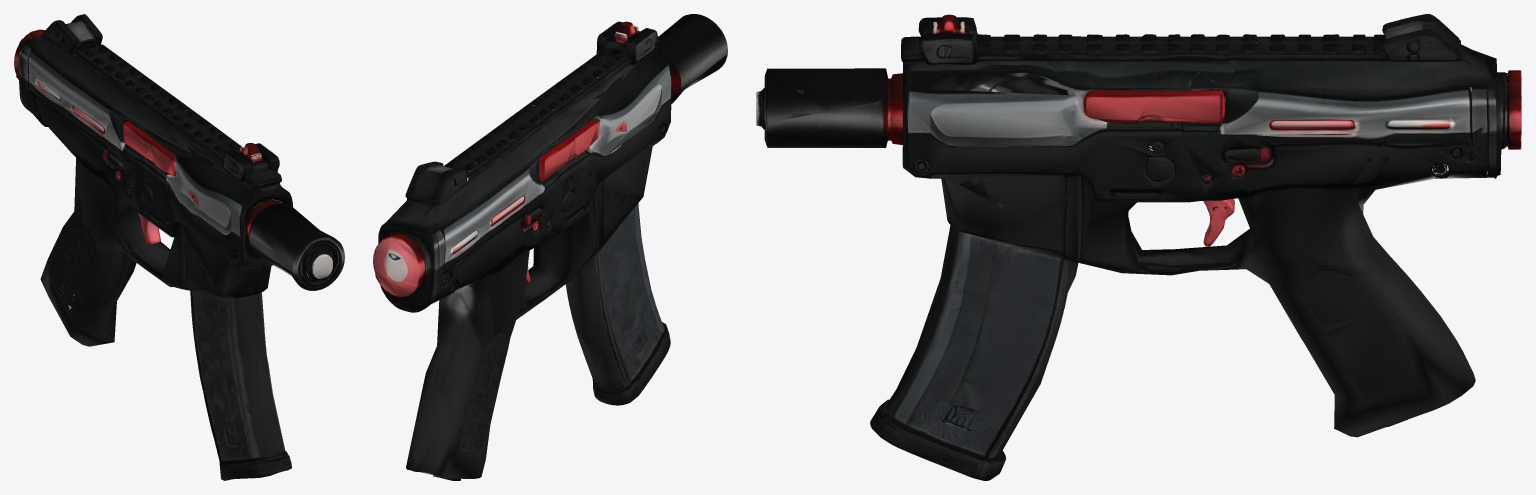
File: machinepistol.glb
The picture shows the model from 3 angles, left to right: view 1: azimuth 30°, elevation 25°; view 2: azimuth 150°, elevation 25°; view 3: azimuth 270°, elevation 25°; orthographic projection. The views are drawn at different scales.
Visible parts, largest first — view 1: model; view 2: model; view 3: model.
Boxes of the visible parts, box(x1,y1,x2,y2) form: model: box(14, 14, 344, 480); model: box(373, 14, 727, 480); model: box(756, 14, 1521, 480).
Bounding box in the file's own units: 6885 × 41070 × 62320.
1 material, 1 textured.
